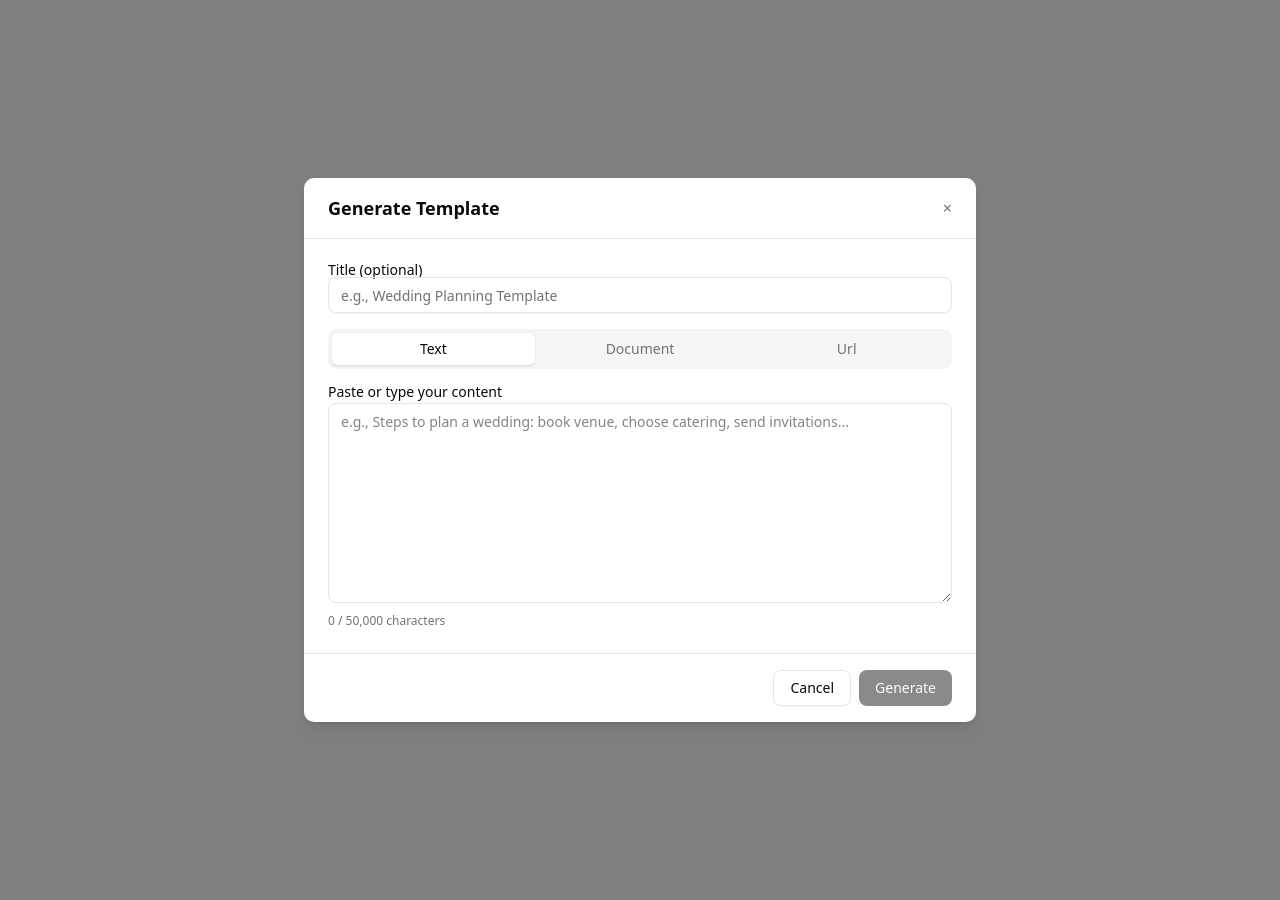
Scenario: GenerateTemplateDialog › switches tabs on click
Click the button "url".
click(847, 349)  # box [745,333,948,365]
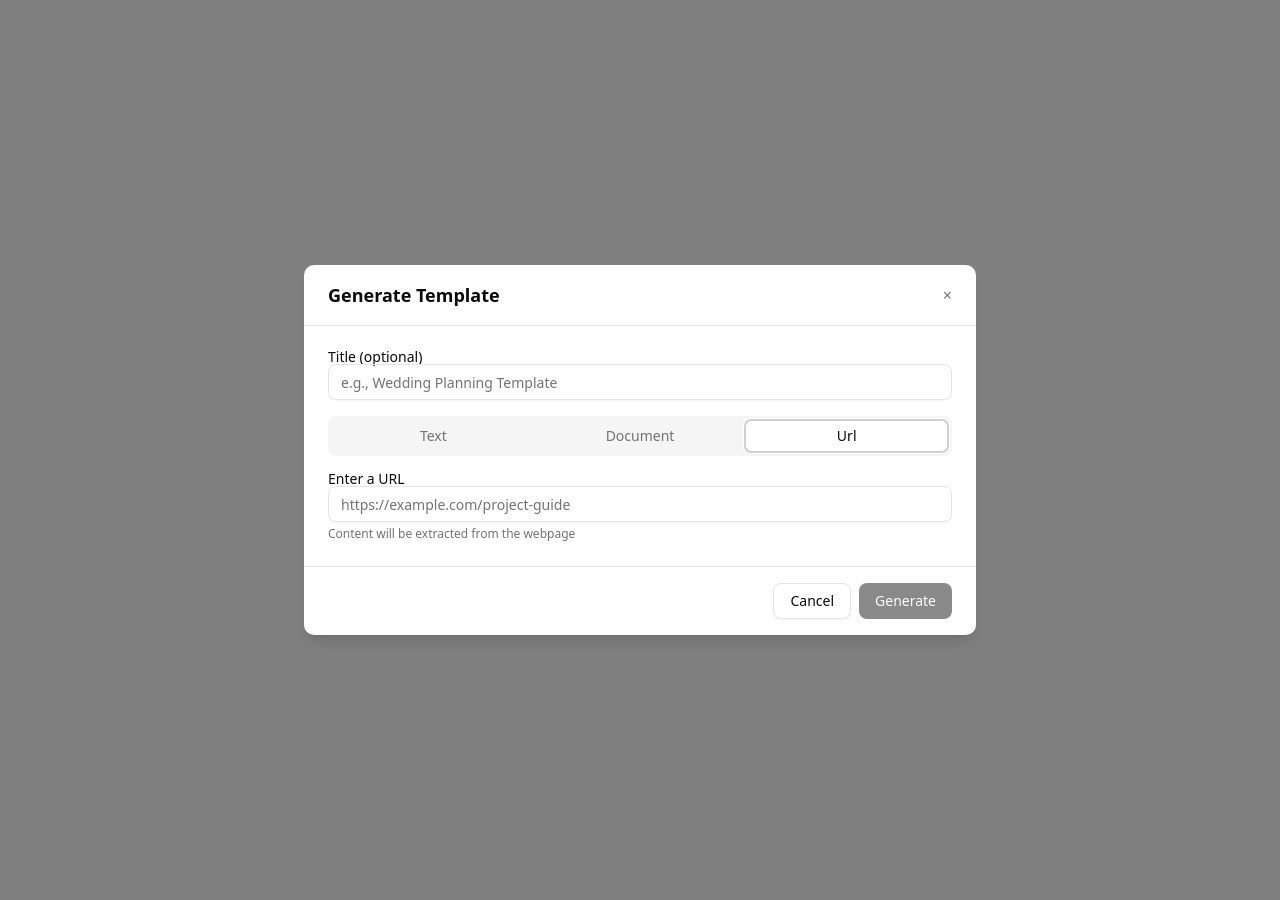
Expected: the field with placeholder "https://example.com/project-guide" is shown, [328,486,952,522]
